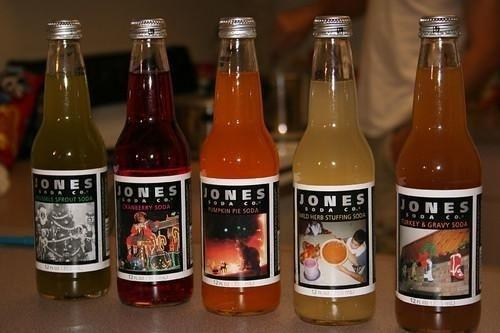bottle-glass: (393, 12, 487, 332), (291, 13, 378, 328), (197, 13, 281, 318), (111, 17, 195, 309), (28, 17, 112, 303)
